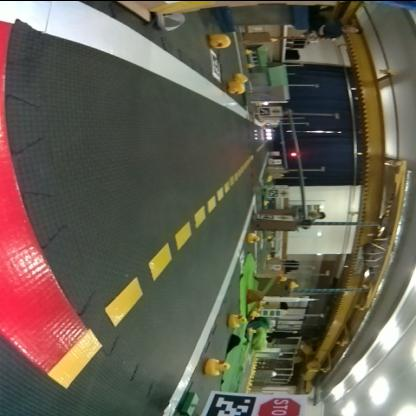Duckie: (206, 357, 232, 374), (212, 32, 230, 46), (230, 313, 248, 325), (230, 80, 246, 93), (236, 72, 250, 80), (249, 233, 259, 242)
QR code: (207, 392, 255, 414), (259, 212, 275, 218), (271, 189, 278, 195)
Stop sign: (263, 398, 303, 414)
Traffic light: (292, 151, 300, 156)
